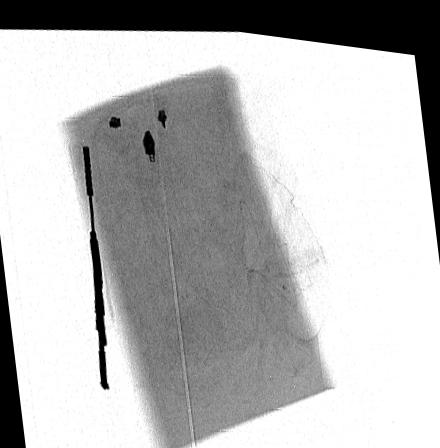Gun: (77, 138, 109, 392)
